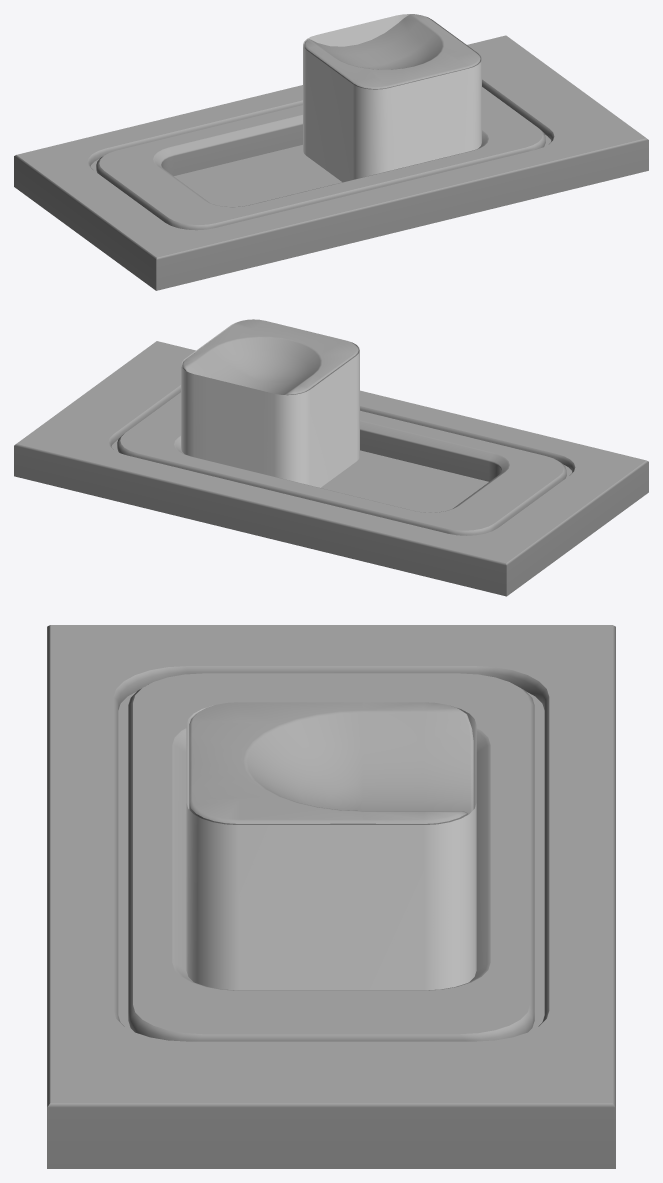
Rendered from ToggleSwitch.fbx.
3 views of the same model, one above another, from view 1: azimuth 30°, elevation 25°; view 2: azimuth 150°, elevation 25°; view 3: azimuth 270°, elevation 25° (orthographic). The views are drawn at different scales.
Visible parts, largest first — view 1: ButtonRing_1, ButtonShadow_2, Button_2; view 2: ButtonRing_1, ButtonShadow_2, Button_2; view 3: ButtonRing_1, ButtonShadow_2, Button_2.
Boxes of the visible parts, box(x1,y1,x2,y2) form: ButtonRing_1: box(14, 35, 648, 290); ButtonShadow_2: box(303, 14, 481, 182); Button_2: box(304, 14, 480, 89); ButtonRing_1: box(14, 341, 648, 596); ButtonShadow_2: box(181, 322, 359, 487); Button_2: box(182, 319, 358, 395); ButtonRing_1: box(47, 625, 615, 1168); ButtonShadow_2: box(186, 705, 476, 990); Button_2: box(189, 702, 473, 824).
Size of the model in its own units: 8 by 1.76 by 4.
